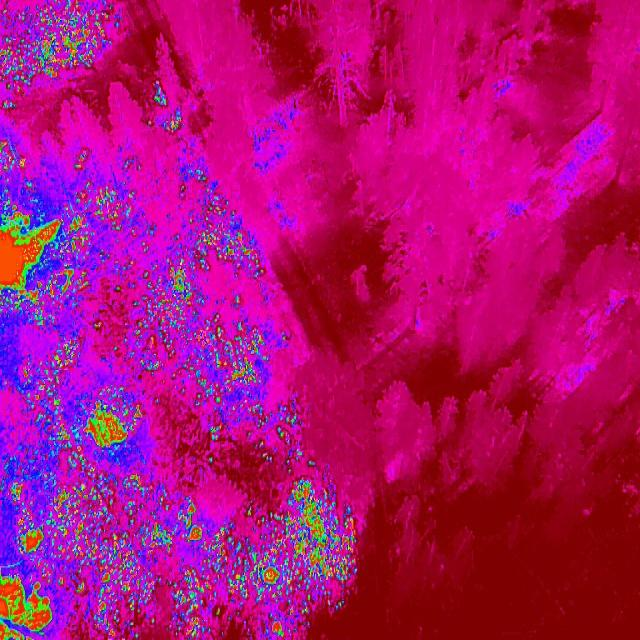fire: (0, 178, 148, 328), (0, 467, 205, 567), (184, 309, 304, 447), (193, 182, 278, 280), (279, 478, 360, 578), (0, 0, 113, 69), (78, 566, 160, 640), (12, 340, 94, 412), (74, 395, 154, 457), (1, 572, 68, 640), (149, 260, 208, 332), (169, 567, 222, 640), (36, 411, 89, 469), (247, 550, 299, 600), (211, 534, 248, 598), (0, 67, 58, 93), (146, 334, 178, 374), (1, 139, 28, 177), (159, 110, 193, 140), (252, 509, 280, 540), (148, 80, 174, 108), (122, 154, 158, 174), (187, 166, 223, 183), (68, 150, 92, 174), (269, 617, 293, 640), (1, 95, 22, 111), (142, 114, 157, 134), (302, 454, 319, 470), (230, 293, 246, 306), (178, 183, 188, 198), (288, 606, 296, 616)
